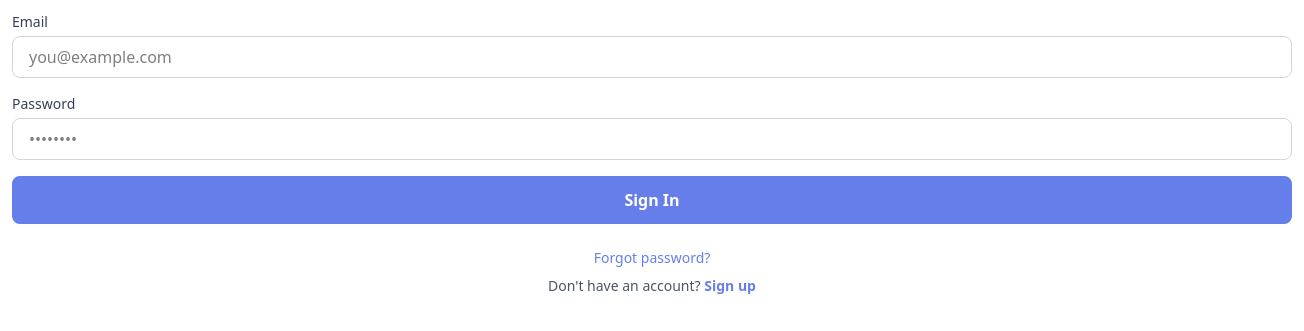
Test: EmailAuthFormComponent › validation › rejects a password shorter than 6 characters
The width and height of the screenshot is (1304, 331).
Type "hero@example.com" into the field with id "email" at coordinates (652, 57), box [12,36,1292,78]
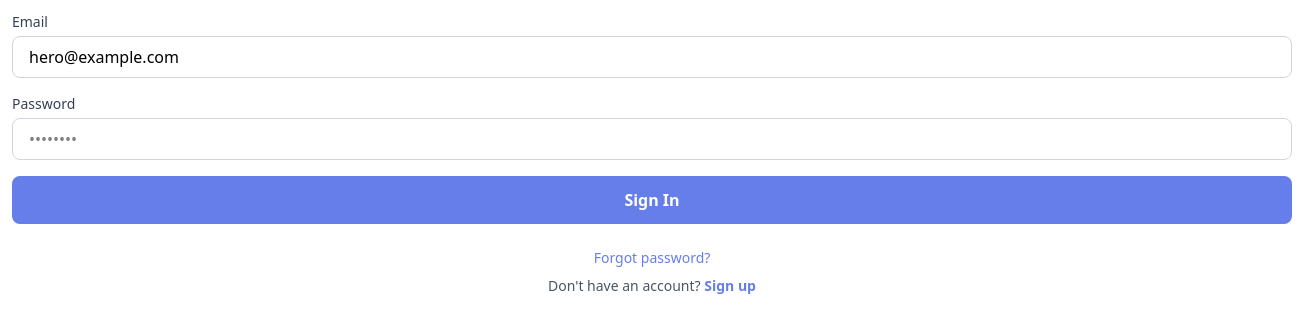
Type "12345" into the password field labelled "Password" at coordinates (652, 139), box [12,118,1292,160]
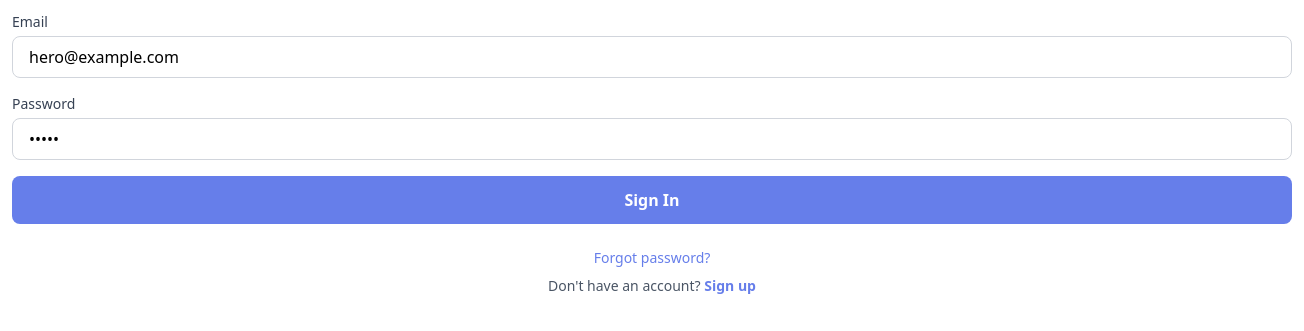
Submit the form
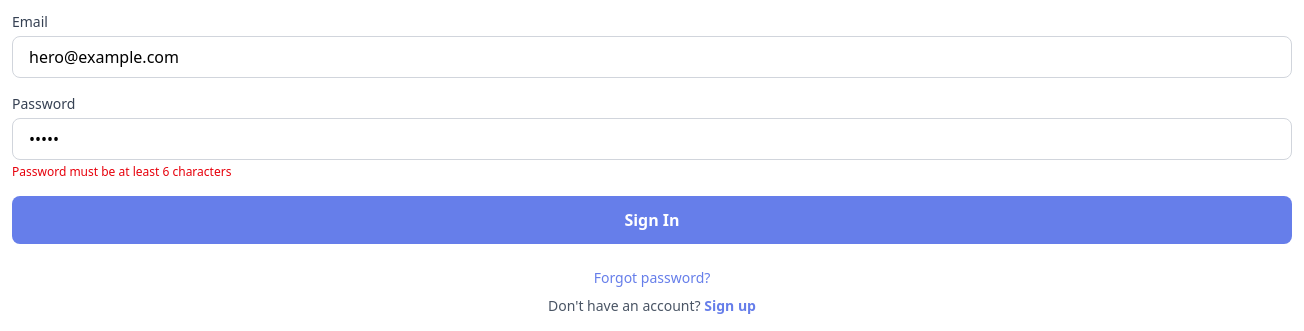
Result: the text with test id "password-error" shows "at least 6 characters" at [12,163,231,180]
